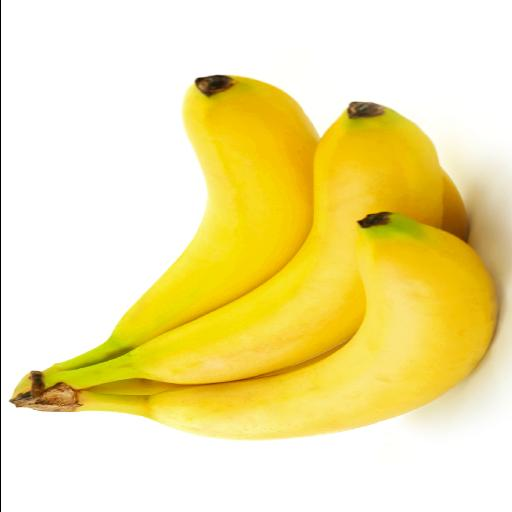banana: (44, 102, 465, 388), (78, 213, 496, 438), (52, 75, 319, 369), (86, 378, 190, 394)
